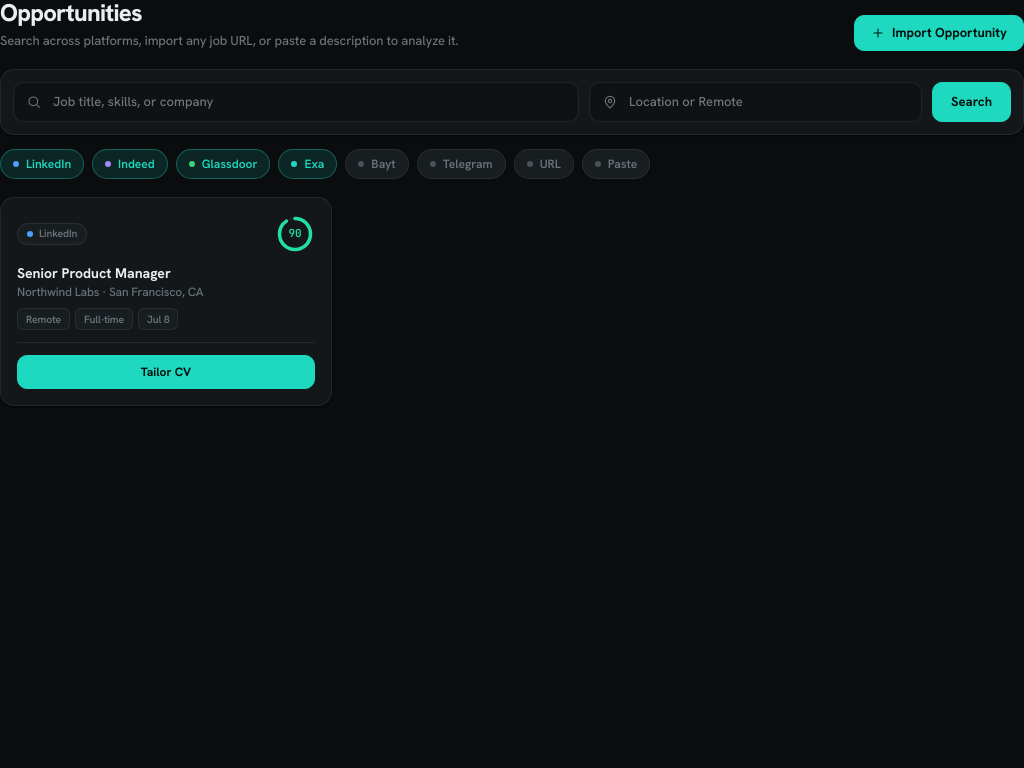
Test: JobSearchPage › reuses persisted match evidence when opening a job drawer
The width and height of the screenshot is (1024, 768).
Click the button "Senior Product Manager" at (166, 273), box left=17, top=264, right=315, bottom=282
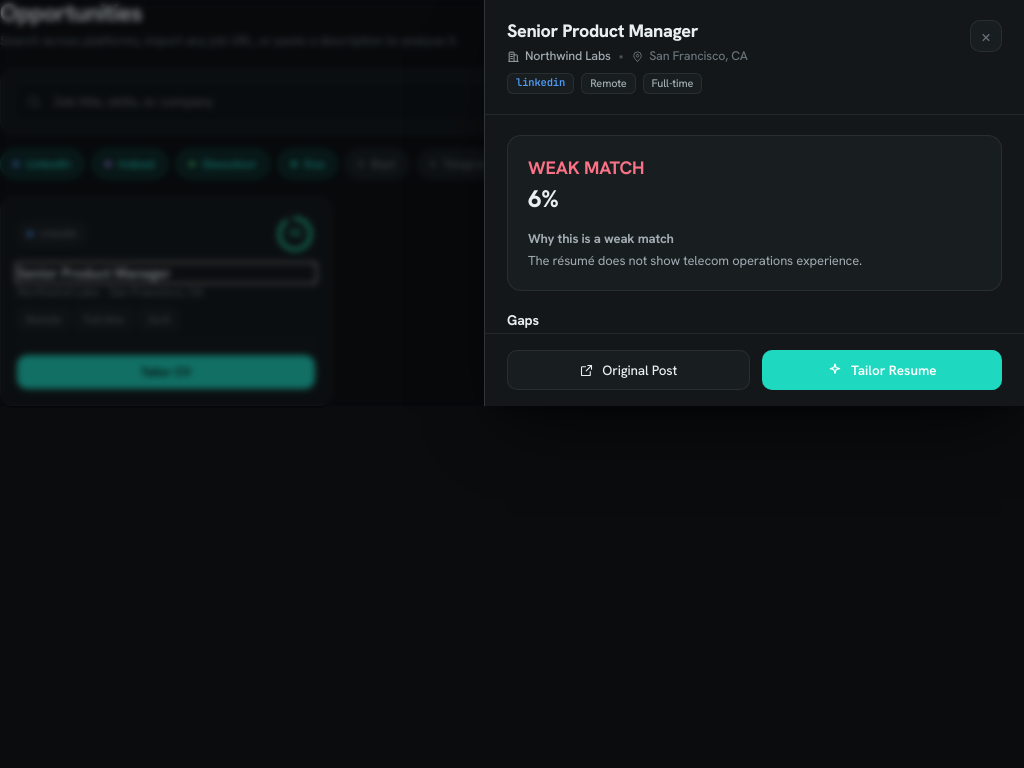
Expected: the heading "WEAK MATCH" is shown, left=528, top=156, right=644, bottom=179
Expected: the text "6%" is shown, left=528, top=183, right=559, bottom=214
Expected: the button "Tailor Resume" is shown, left=762, top=350, right=1002, bottom=390
